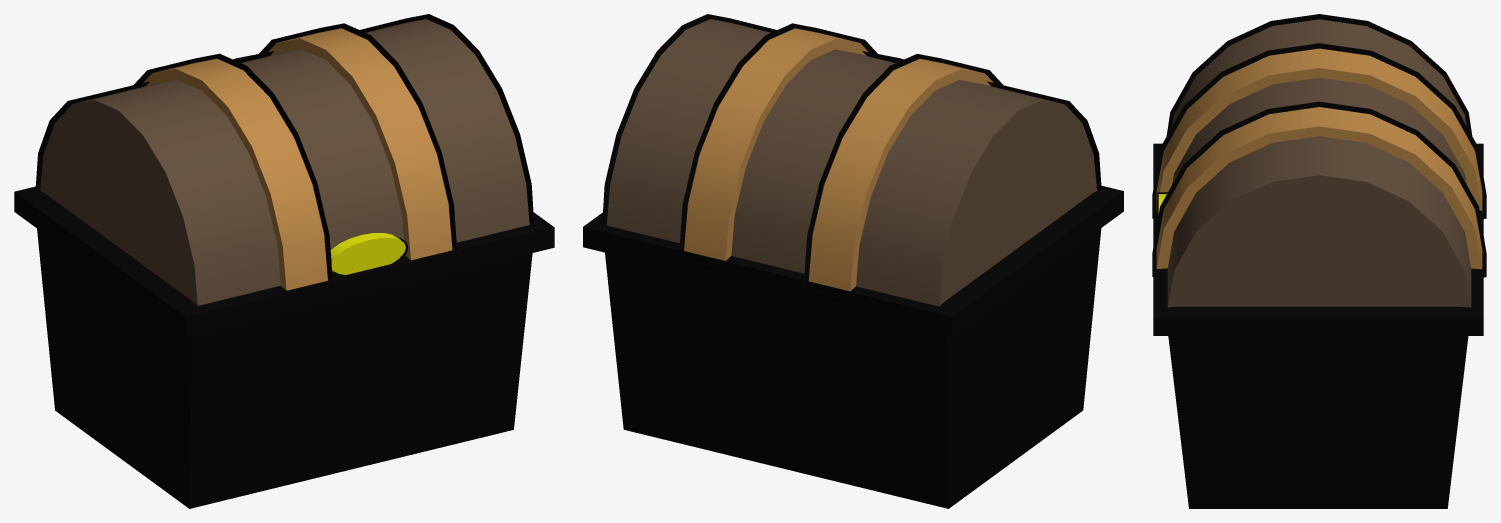
Rendered from Chest.fbx.
The picture shows the model from 3 angles, left to right: view 1: azimuth 30°, elevation 25°; view 2: azimuth 150°, elevation 25°; view 3: azimuth 270°, elevation 25°; orthographic projection. The views are drawn at different scales.
Parts seen in each view (by area): view 1: polySurface420, polySurface421; view 2: polySurface420, polySurface421; view 3: polySurface420, polySurface421.
Part boxes in pixels (x1,y1,x2,y2): polySurface420: [35, 14, 534, 305]; polySurface421: [14, 186, 554, 508]; polySurface420: [602, 14, 1101, 306]; polySurface421: [583, 185, 1123, 508]; polySurface420: [1152, 14, 1486, 307]; polySurface421: [1153, 143, 1483, 508].
Bounding box in the file's own units: 3.28 × 3.09 × 2.68.
